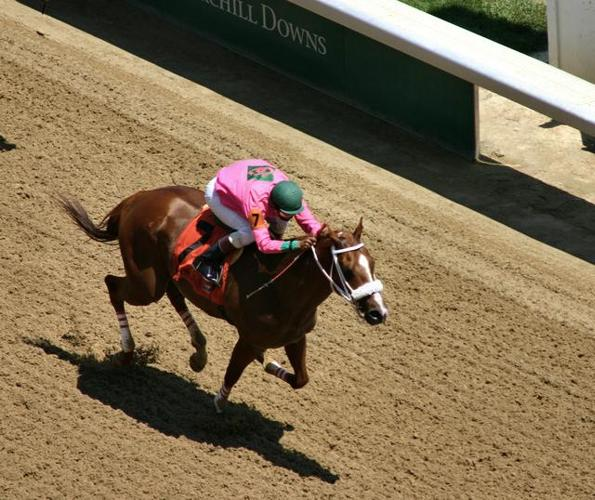person: (193, 159, 324, 286)
